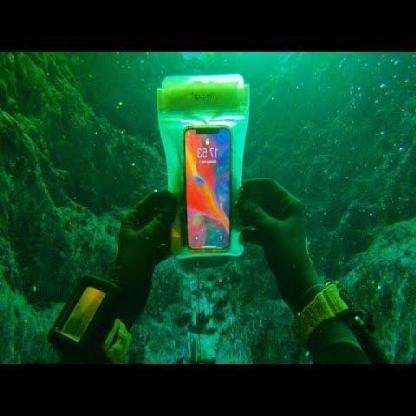cellphone: (183, 126, 232, 251)
